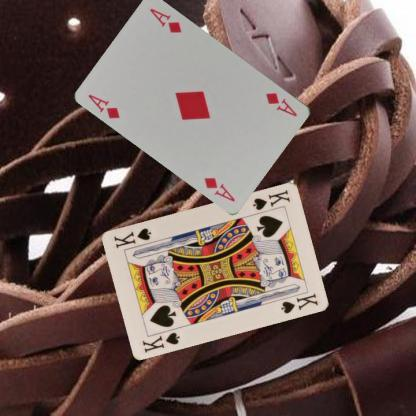Ad: (86, 91, 122, 120), (264, 89, 298, 118)
Ks: (250, 186, 292, 212), (140, 329, 181, 354)
